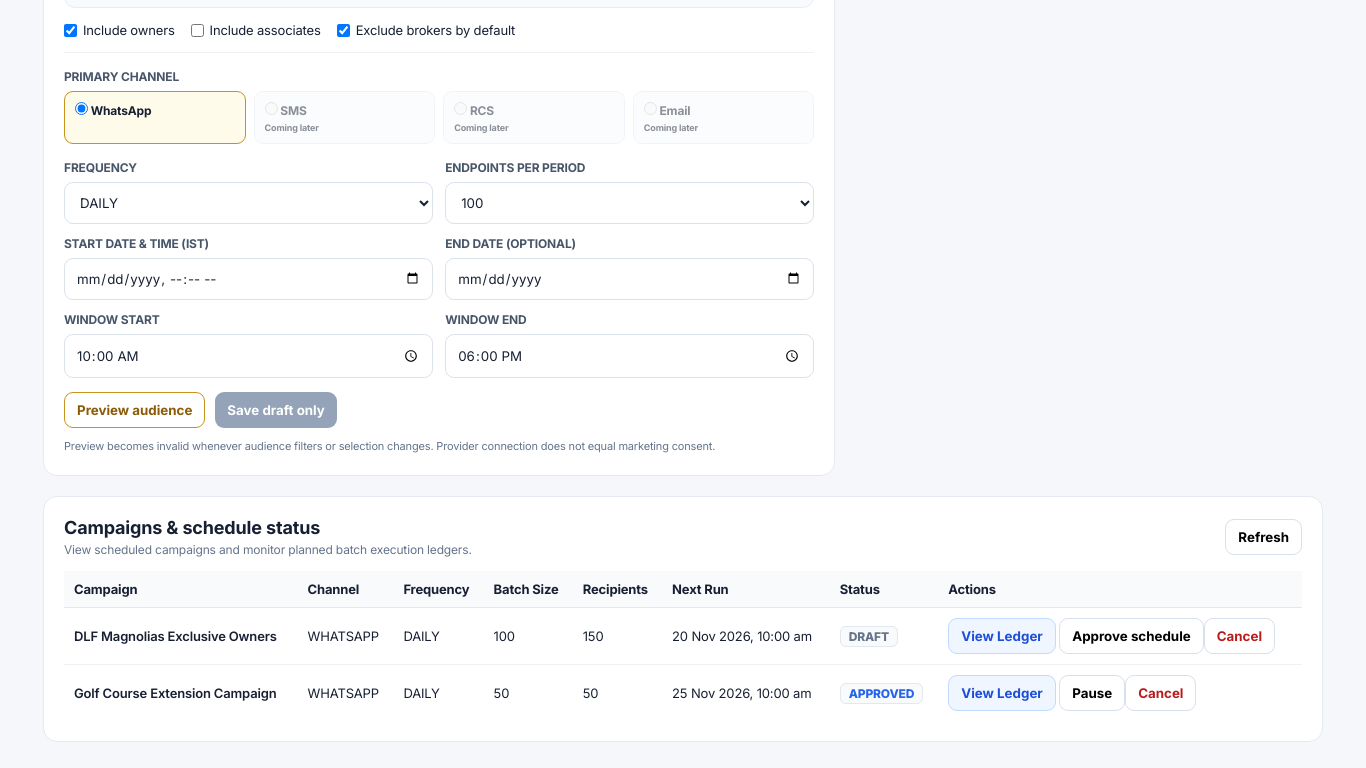
it: OwnerOutreachPage Frontend Component › opens campaign detail ledger modal when "View Ledger" is clicked
This screenshot has width=1366, height=768.
(page scrolled)
Expected: the text "DLF Magnolias Exclusive Owners" is shown, x1=64 y1=607 x2=298 y2=664
Click the button "View Ledger" in the row of "DLF Magnolias Exclusive Owners". click: (1002, 636)
box: x1=948 y1=618 x2=1056 y2=654
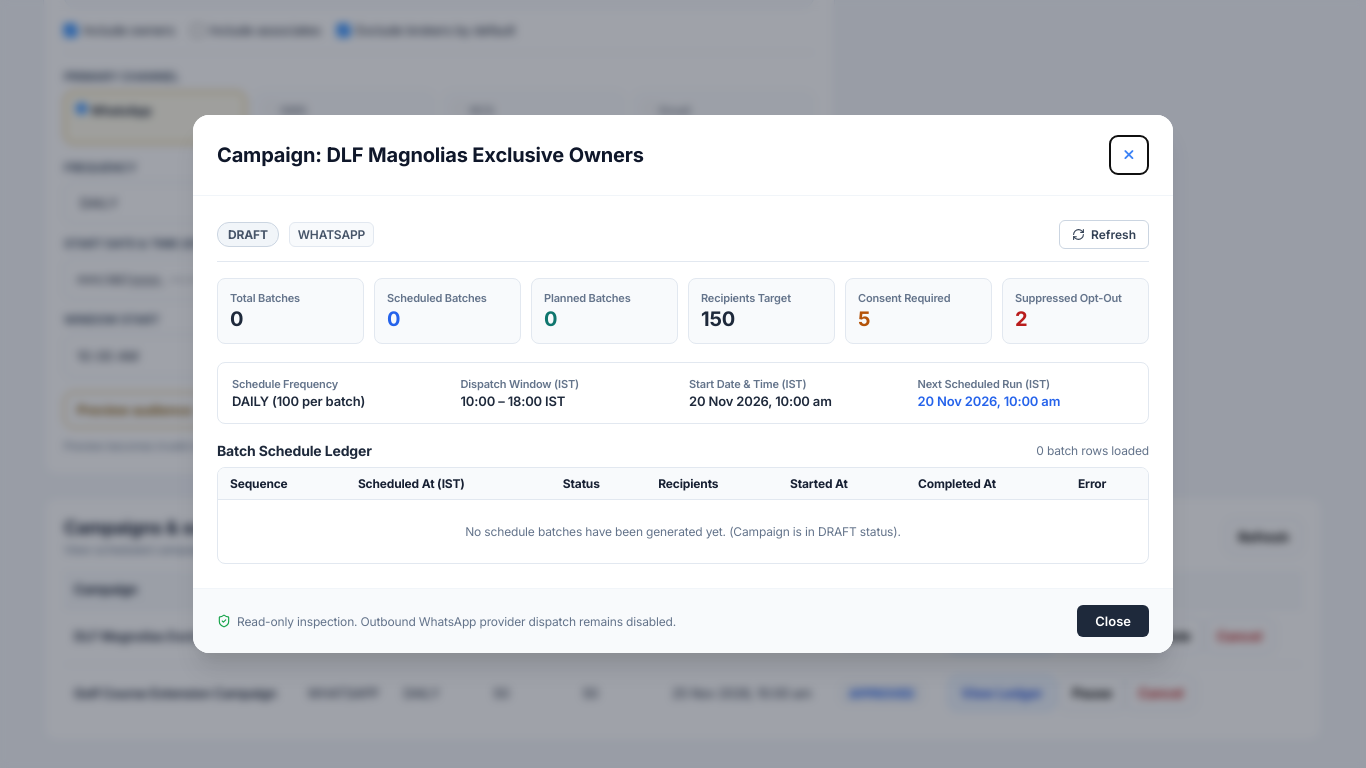
Now the heading "Campaign: DLF Magnolias Exclusive Owners" is shown, box x1=217 y1=143 x2=644 y2=167
